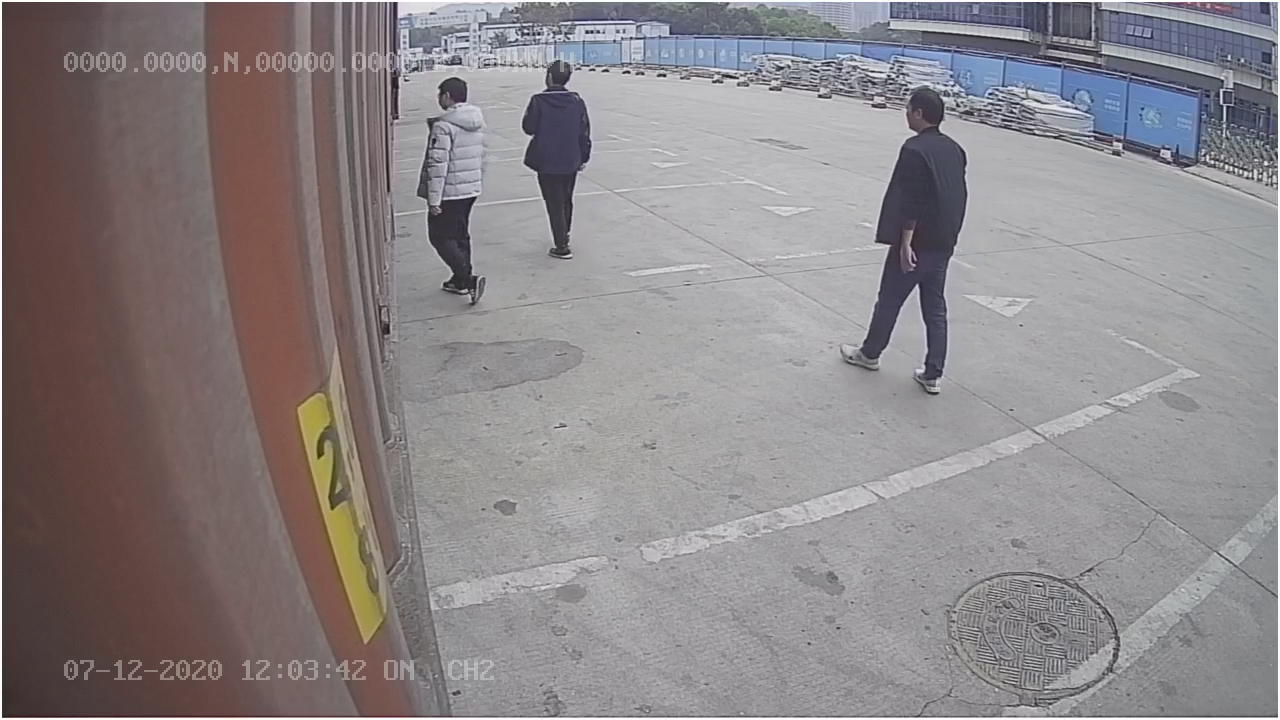person: (836, 84, 969, 390), (415, 75, 493, 310)
